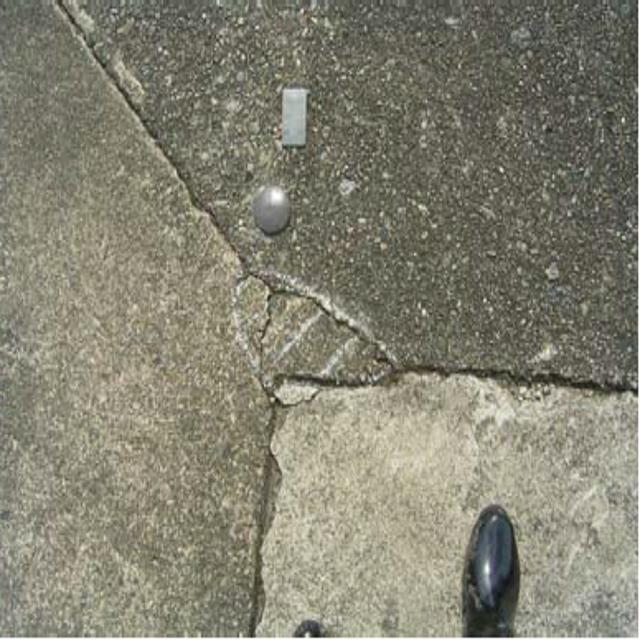crack: (56, 13, 448, 413)
